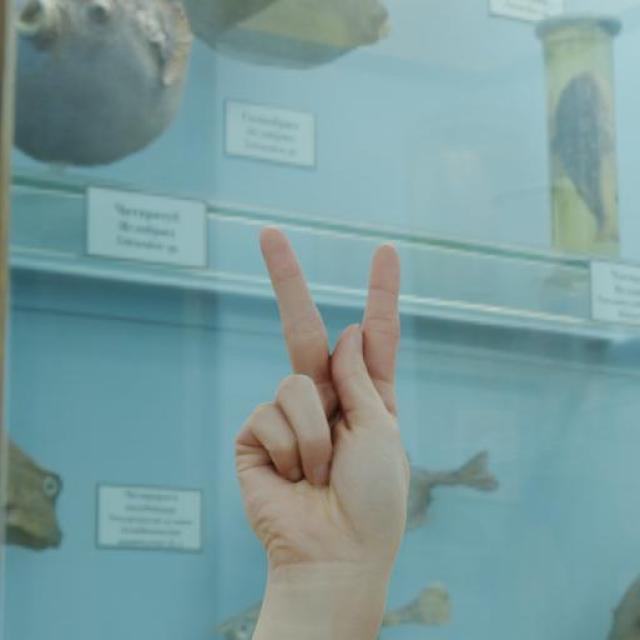K: (231, 221, 414, 575)
